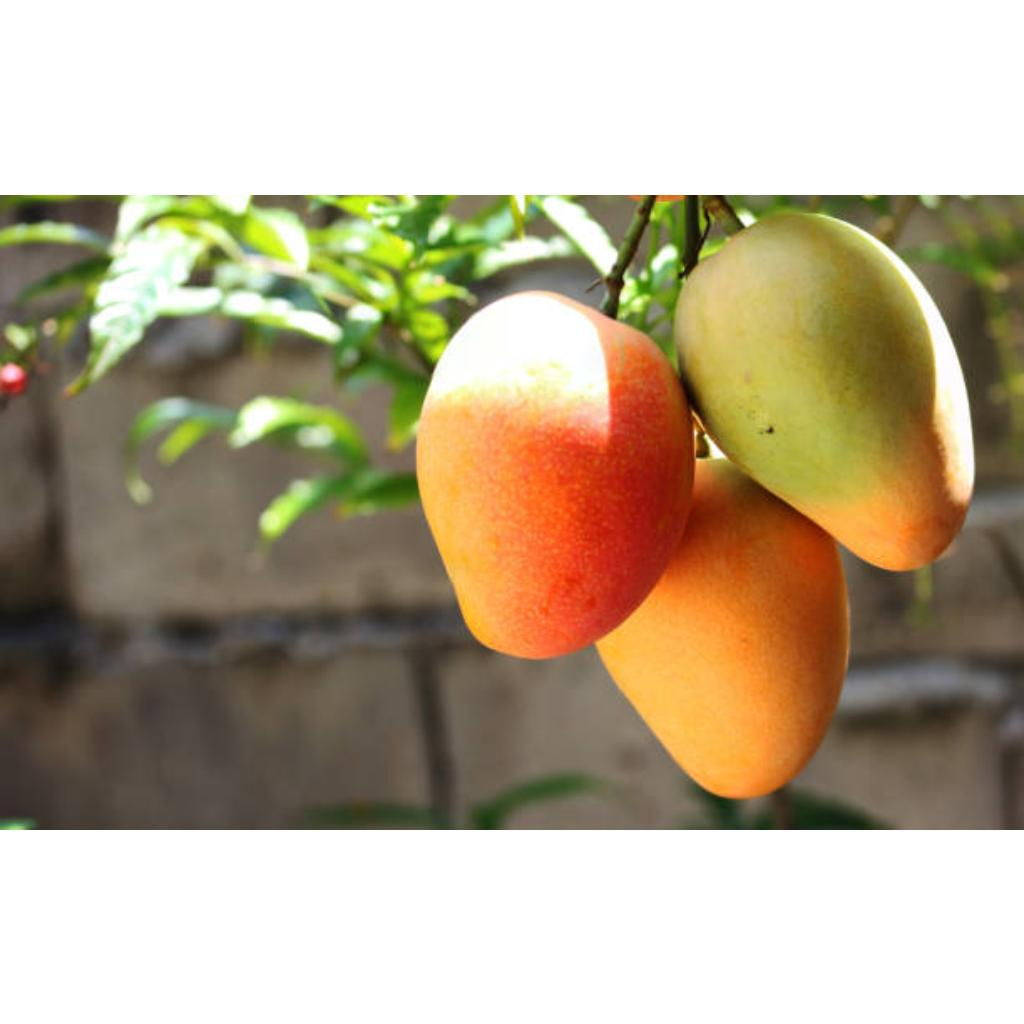mango: (676, 212, 974, 570), (416, 290, 694, 657), (596, 460, 848, 798), (700, 790, 884, 829)
